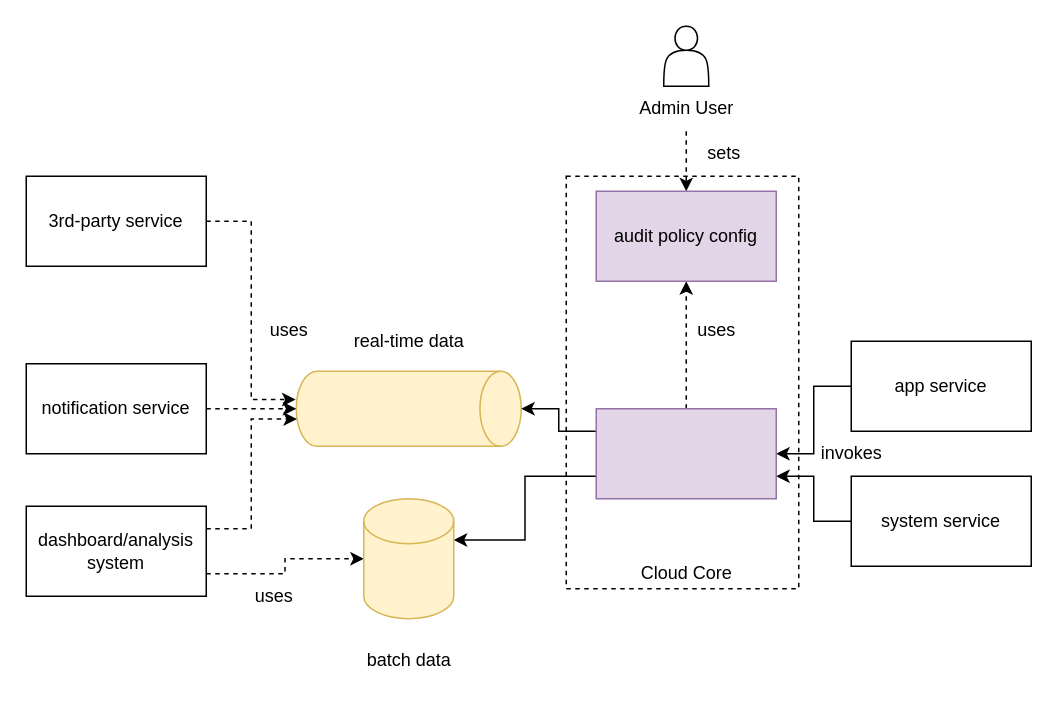
Image size: 1058x710. Some labels were removed from this diagram. Here are the shapes that lost their labels. From the top down, the centre of each, then its label:
At point 408,408: "event channel".
At point 685,453: "PaaS API layer".
At point 408,558: "Data Store".
